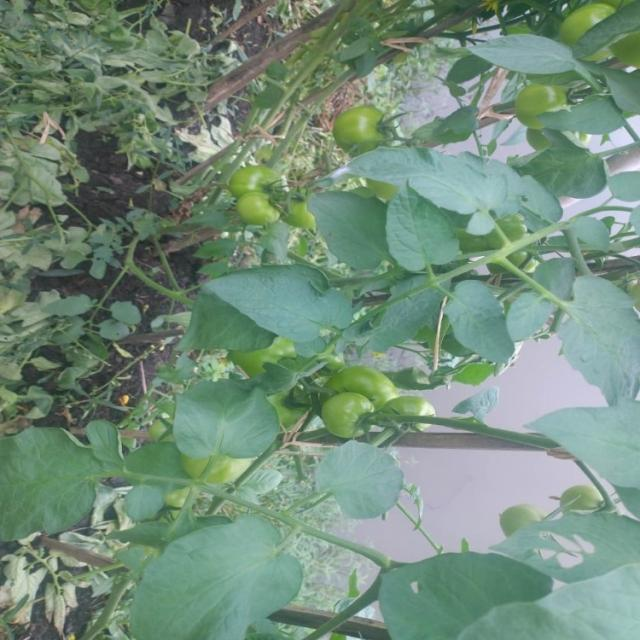tomato: (320, 393, 382, 442), (329, 102, 390, 149), (225, 193, 285, 236), (223, 157, 282, 199), (383, 379, 434, 425), (332, 364, 396, 400), (558, 1, 615, 40), (520, 87, 565, 119), (499, 502, 537, 537), (563, 490, 604, 513)
